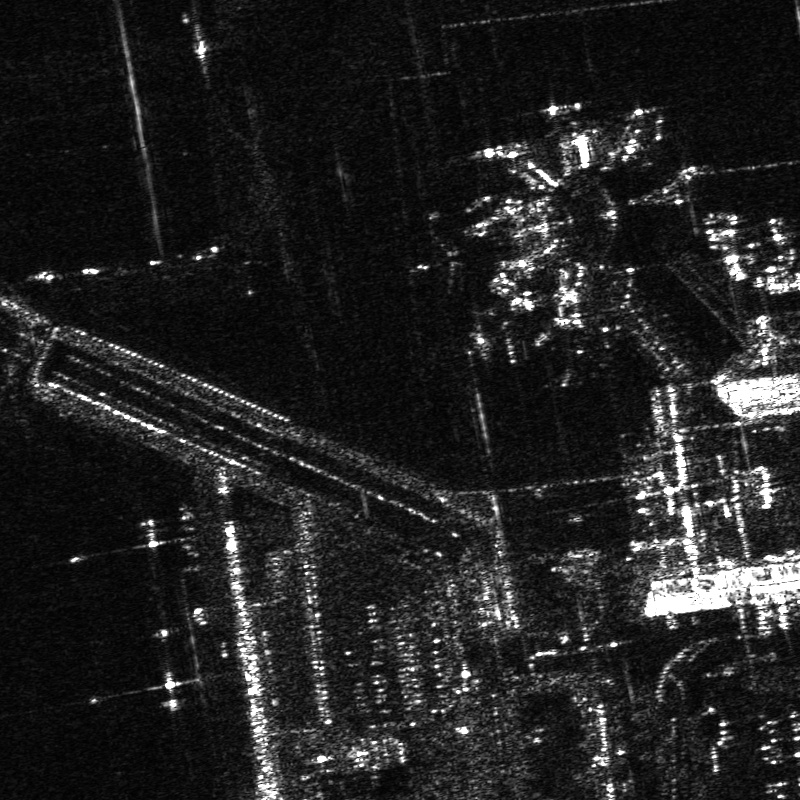A220: (403, 227, 474, 295)
